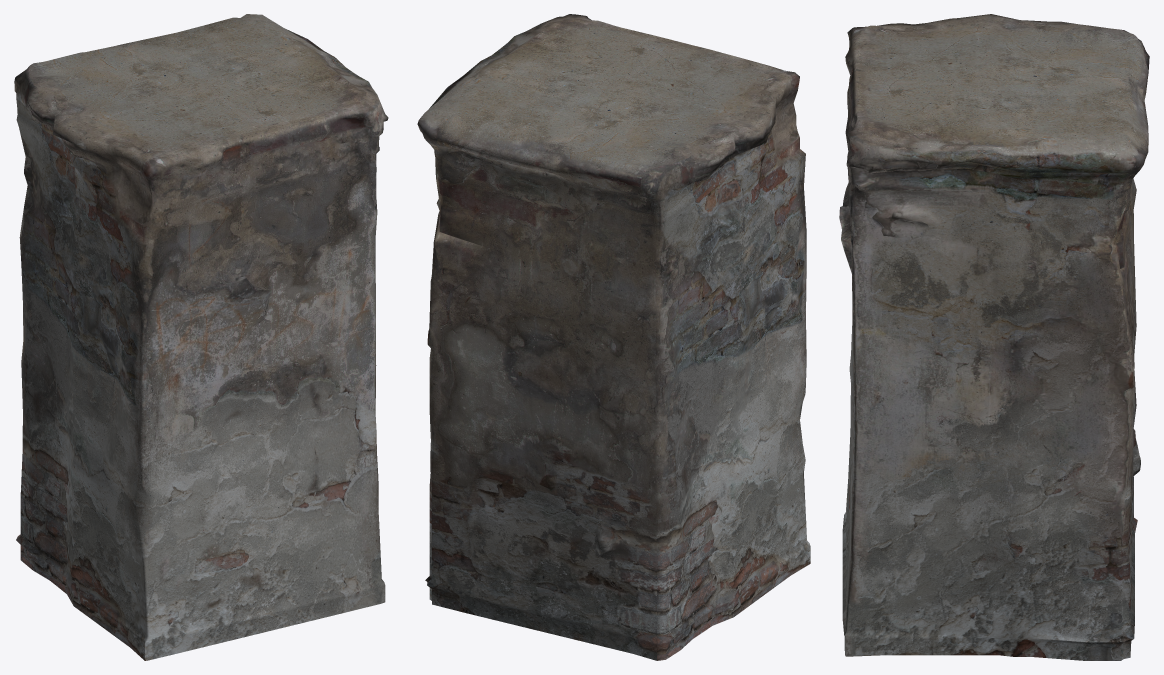
Rendered from SM_CryptColumn_02_01.fbx.
3 views of the same model, side by side, from view 1: azimuth 30°, elevation 25°; view 2: azimuth 150°, elevation 25°; view 3: azimuth 270°, elevation 25° (orthographic). The views are drawn at different scales.
Parts seen in each view (by area): view 1: sm_CryptColumn_02_01_LOD0; view 2: sm_CryptColumn_02_01_LOD0; view 3: sm_CryptColumn_02_01_LOD0.
Part boxes in pixels (box(x1,y1,x2,y2)): sm_CryptColumn_02_01_LOD0: box(14, 14, 388, 660); sm_CryptColumn_02_01_LOD0: box(417, 14, 810, 660); sm_CryptColumn_02_01_LOD0: box(839, 14, 1149, 660).
Size of the model in its own units: 80.66 by 89.7 by 149.
